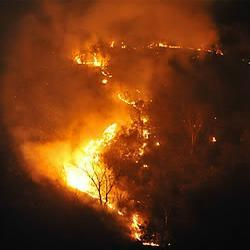fire: (69, 138, 106, 193), (102, 123, 119, 138), (92, 53, 106, 68)
